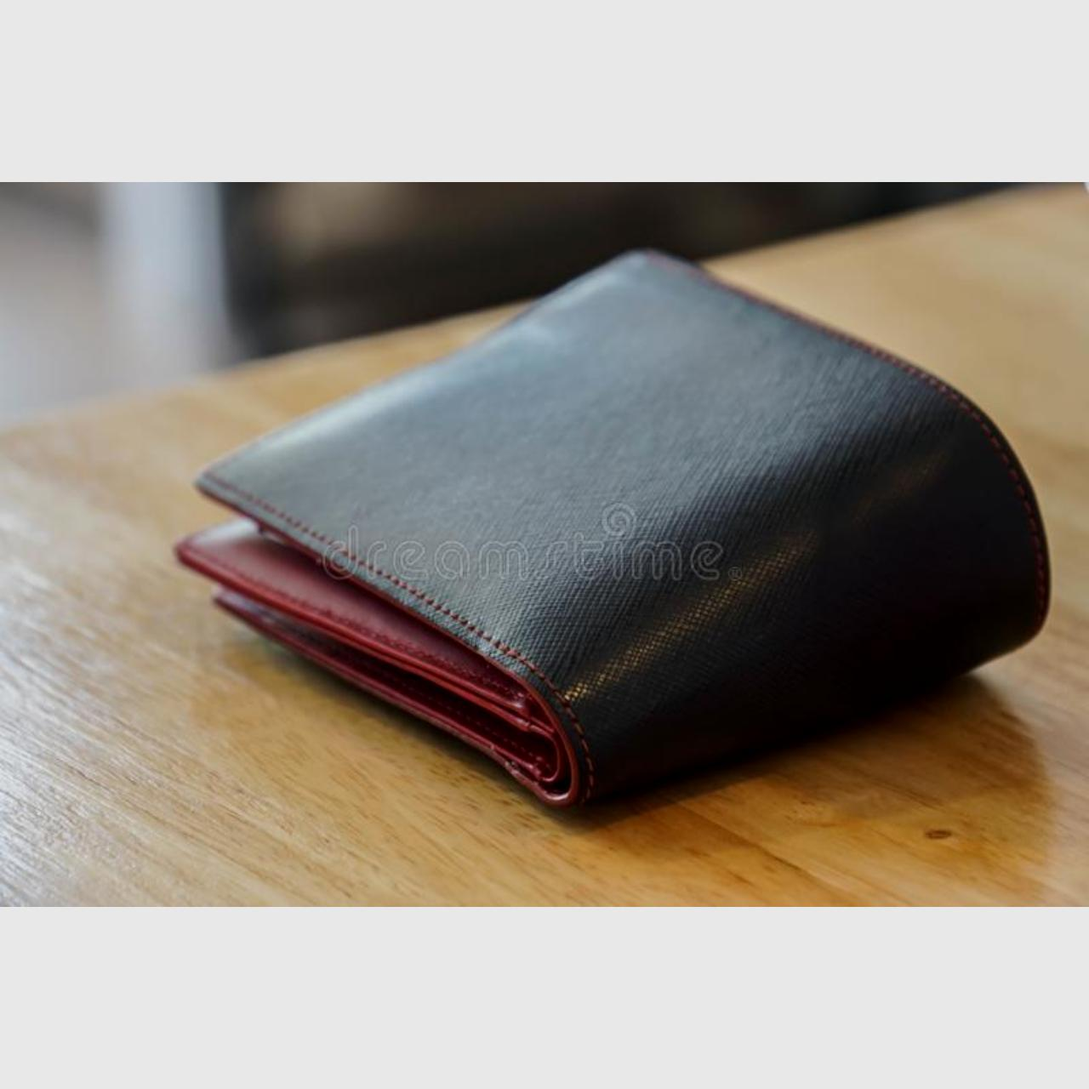wallet: (126, 228, 1089, 824)
